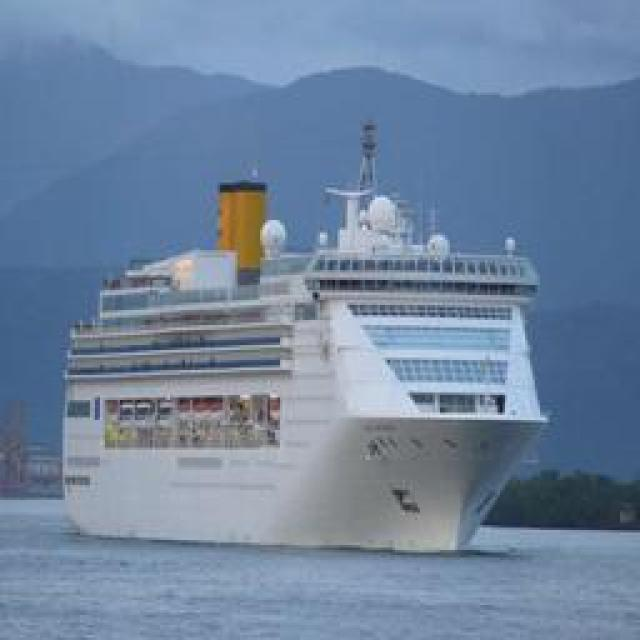ship2: (63, 120, 551, 557)
